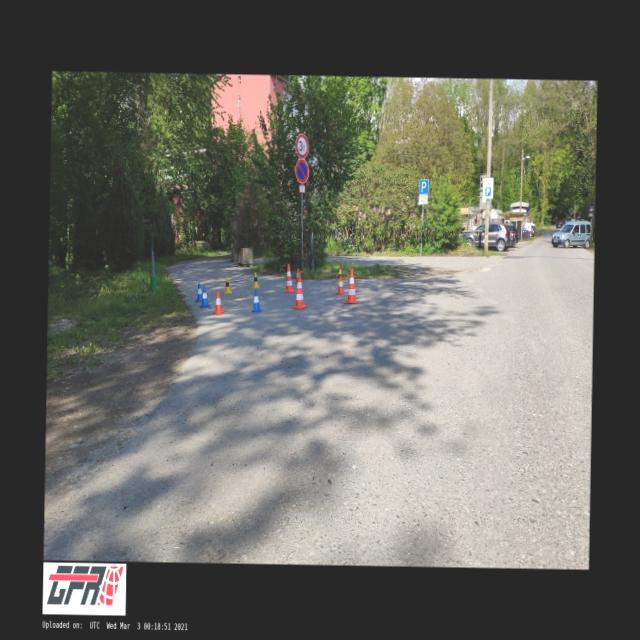blue_cone: (250, 290, 263, 312), (200, 286, 210, 307), (194, 283, 202, 302)
large_orange_cone: (292, 272, 308, 308), (344, 268, 358, 303), (284, 264, 294, 292)
orange_cone: (212, 290, 225, 314), (336, 276, 345, 294), (295, 268, 299, 283)
yellow_cone: (222, 276, 232, 294), (336, 268, 345, 286), (251, 272, 260, 288)
